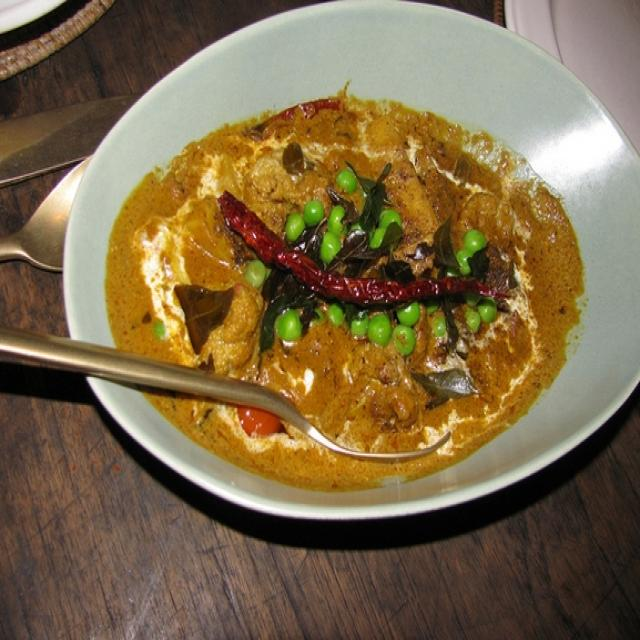熟制海鲜: (61, 10, 633, 522)
